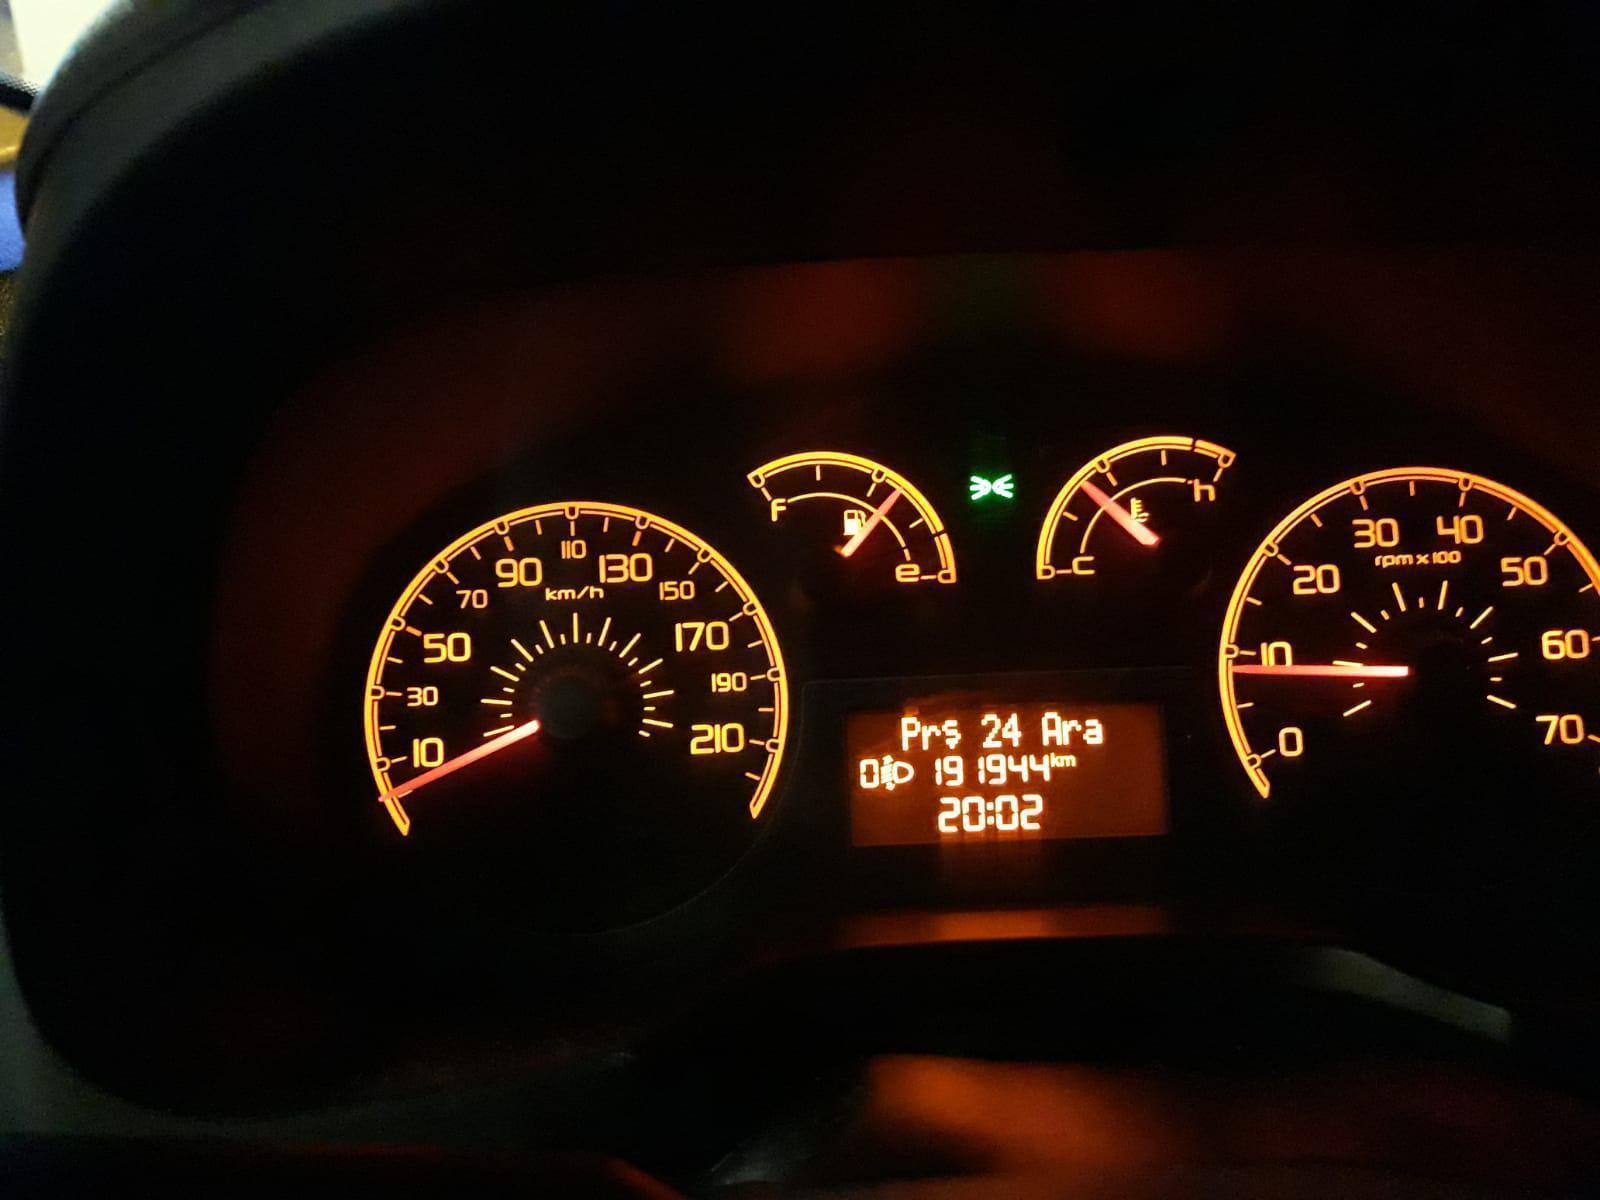0: (994, 793, 1019, 831), (961, 794, 984, 832), (857, 755, 879, 792)
1: (976, 753, 985, 789), (934, 755, 942, 787)
2: (1020, 793, 1044, 831), (937, 794, 960, 833), (980, 710, 1002, 749)
4: (1003, 708, 1027, 746), (1007, 749, 1028, 783), (1028, 751, 1049, 783)
9: (986, 753, 1007, 785), (944, 754, 964, 785)
X: (1041, 710, 1062, 746), (900, 715, 918, 751), (1082, 717, 1104, 746), (920, 724, 939, 751), (944, 720, 960, 750), (1062, 717, 1080, 744), (1060, 754, 1076, 768), (986, 799, 993, 827), (1051, 750, 1060, 766)
odometer: (833, 682, 1175, 857)
